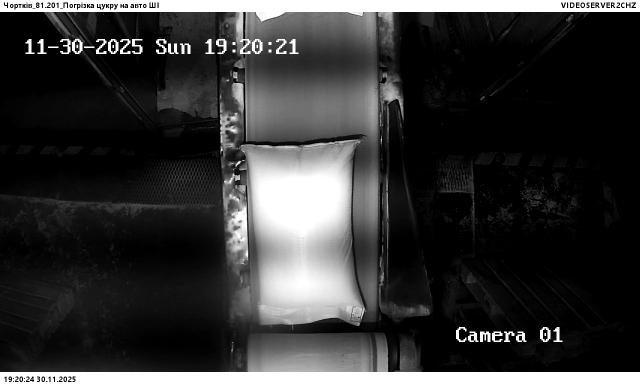bag: (239, 141, 372, 327), (258, 12, 371, 23)
